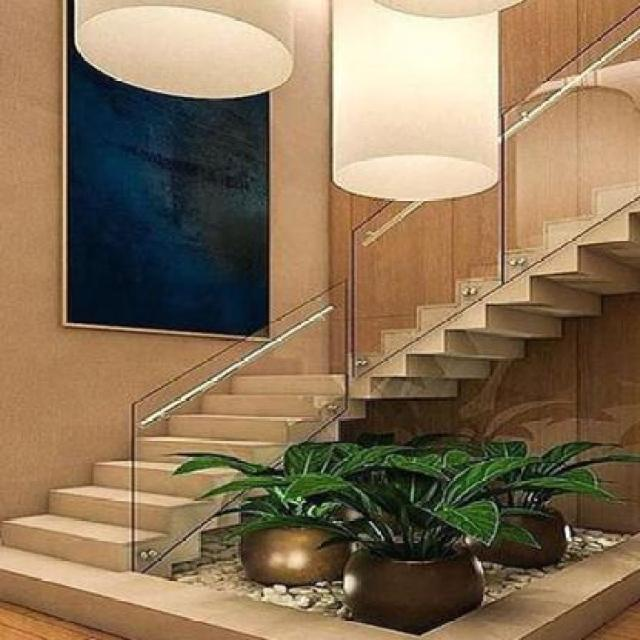stair: (0, 321, 360, 601), (312, 125, 639, 417)
